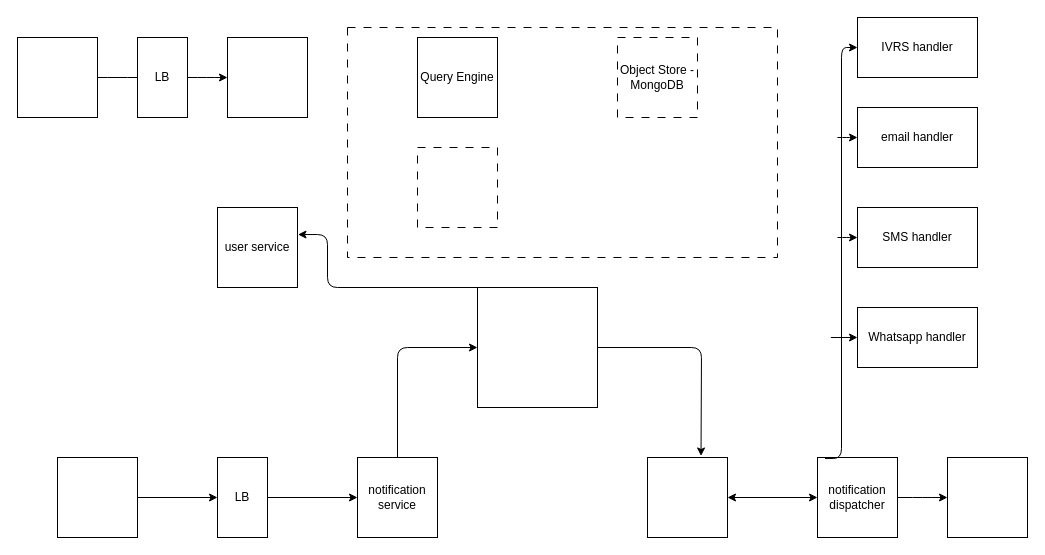
The diagram is 1045 pixels wide and 555 high, and some of its shapes have lost their labels. The shapes that lost their labels are listed below. From the top down, each one's centre as x and y in pixels, then its label:
At pixel 57 77: "bulk notification service UI".
At pixel 267 77: "bulk notification service".
At pixel 537 347: "notification priority & request counter".
At pixel 97 497: "notification service UI".
At pixel 687 497: "kafka instance".
At pixel 987 497: "Cassandra Instance".
